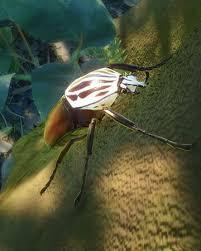insect: (37, 36, 197, 214)
